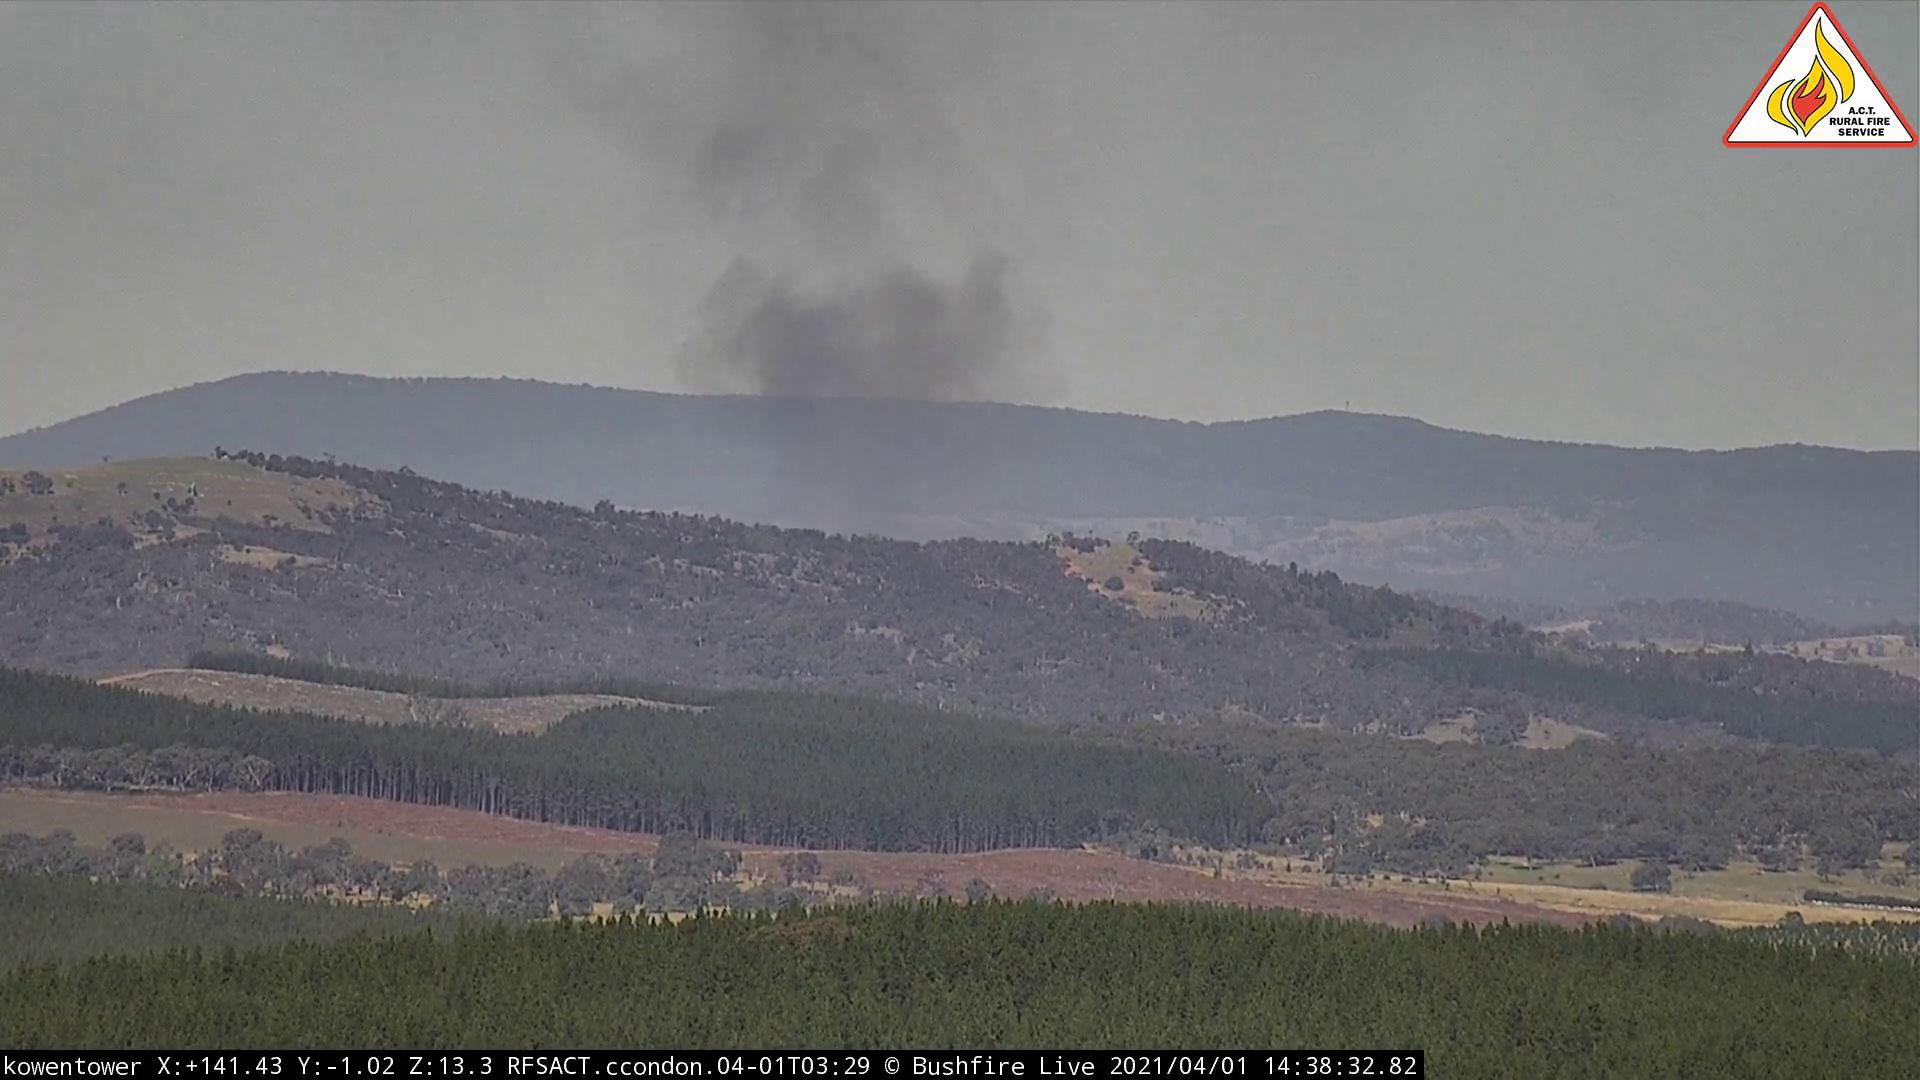instance_salient_object: (564, 3, 1069, 560)
